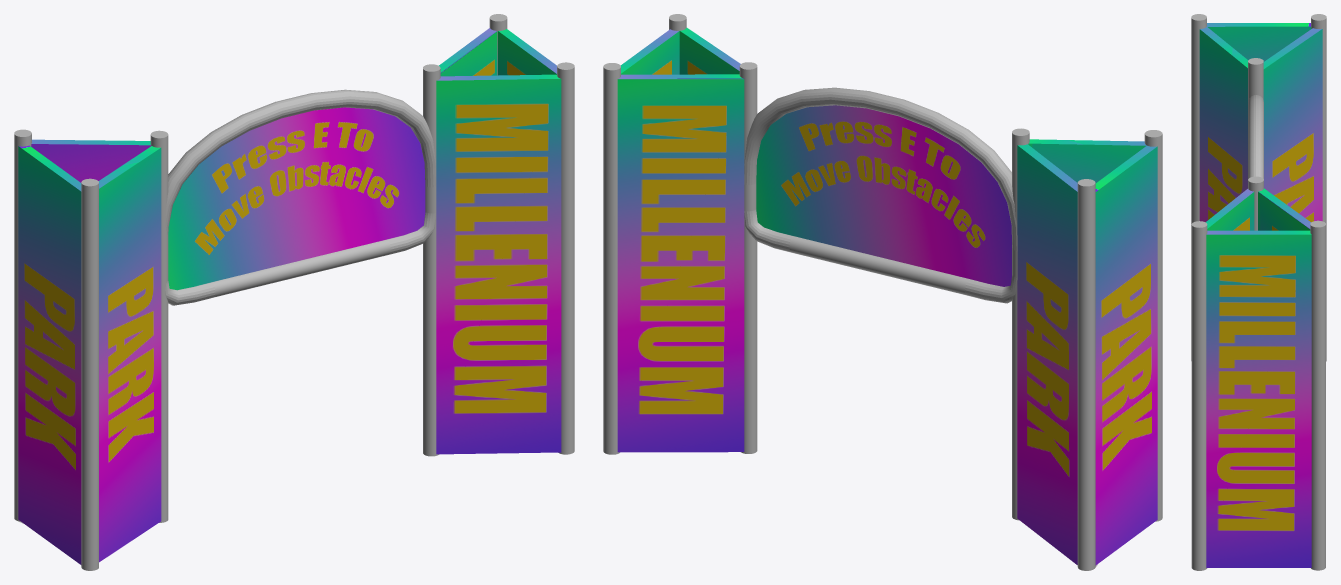
Rendered from Signs.fbx.
3 renders of one model, left to right at view 1: azimuth 30°, elevation 25°; view 2: azimuth 150°, elevation 25°; view 3: azimuth 270°, elevation 25°, orthographic. The views are drawn at different scales.
Parts seen in each view (by area): view 1: pCylinder8; view 2: pCylinder8; view 3: pCylinder8.
Part boxes in pixels (left/top/right/bottom): pCylinder8: left=14, top=14, right=574, bottom=570; pCylinder8: left=603, top=14, right=1162, bottom=570; pCylinder8: left=1191, top=14, right=1326, bottom=570.
Size of the model in its own units: 8.31 by 6.27 by 2.23.
Materials: 4 (3 with a texture image).
